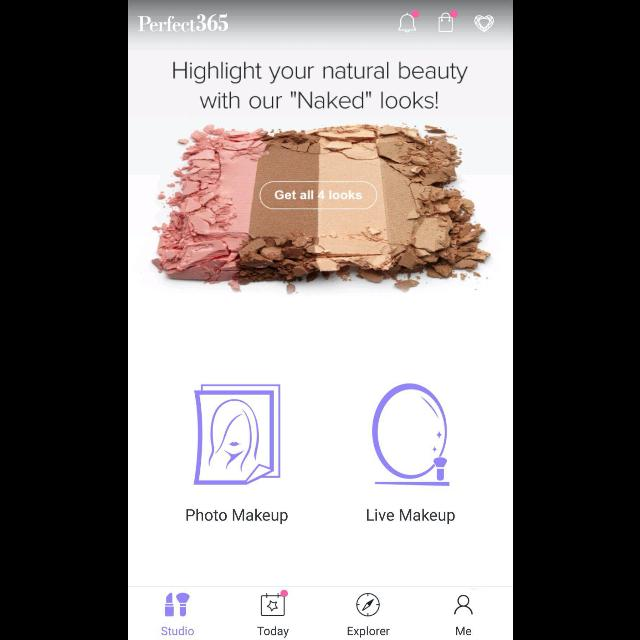icon: (260, 590, 286, 616), (356, 594, 378, 616), (398, 11, 418, 33), (438, 10, 457, 32), (453, 595, 472, 615)
image: (148, 121, 490, 296), (192, 384, 280, 486), (371, 384, 449, 486), (164, 593, 190, 617), (472, 15, 493, 33)
text: (172, 61, 468, 109), (137, 13, 227, 32), (185, 508, 287, 524), (366, 508, 454, 524), (347, 626, 389, 638), (257, 626, 289, 638), (160, 626, 193, 636), (455, 626, 471, 636)
